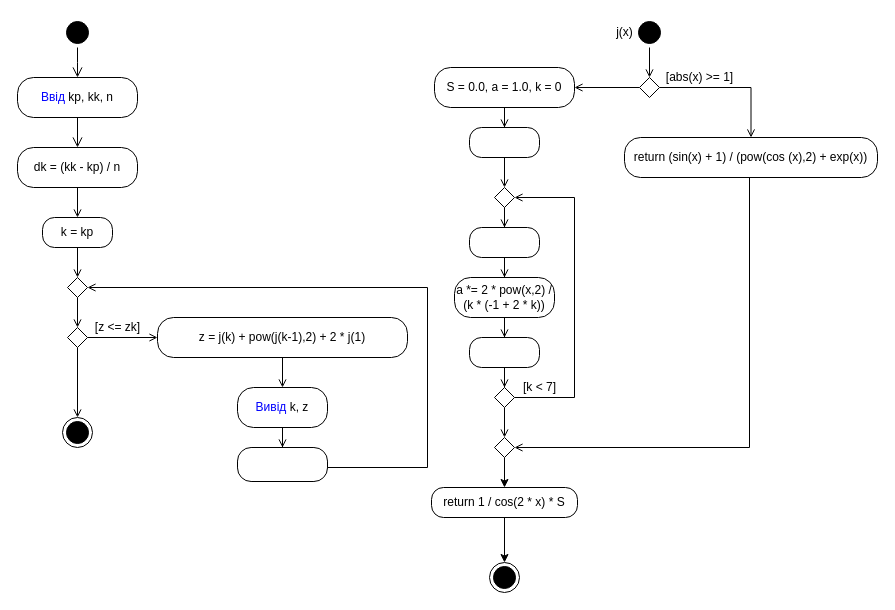
Image size: 895x610. Some labels were removed from this diagram. The shapes that lost their labels are listed below. From the top down, each one's box as (x1, y1, x2, y2) in pixels, then its label:
(468, 126, 540, 158): S = a
(468, 226, 540, 258): k++
(468, 336, 540, 368): S += a
(236, 446, 328, 482): k += dk
